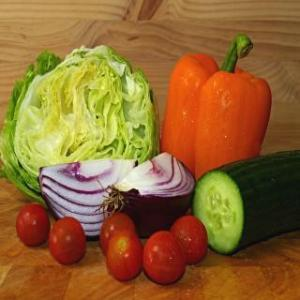bell_pepper: (166, 26, 266, 202)
cabbage: (1, 41, 161, 211)
cucumber: (186, 140, 300, 252)
onion: (103, 144, 199, 240), (31, 154, 139, 238)
tomato: (142, 228, 190, 282), (172, 211, 208, 269), (14, 195, 52, 247), (103, 226, 141, 278), (50, 215, 88, 265), (99, 207, 136, 247)
